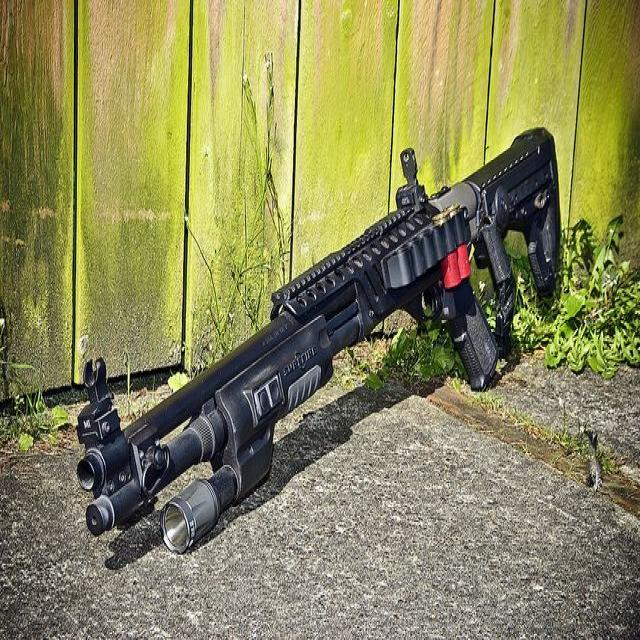shotgun: (66, 114, 569, 582)
